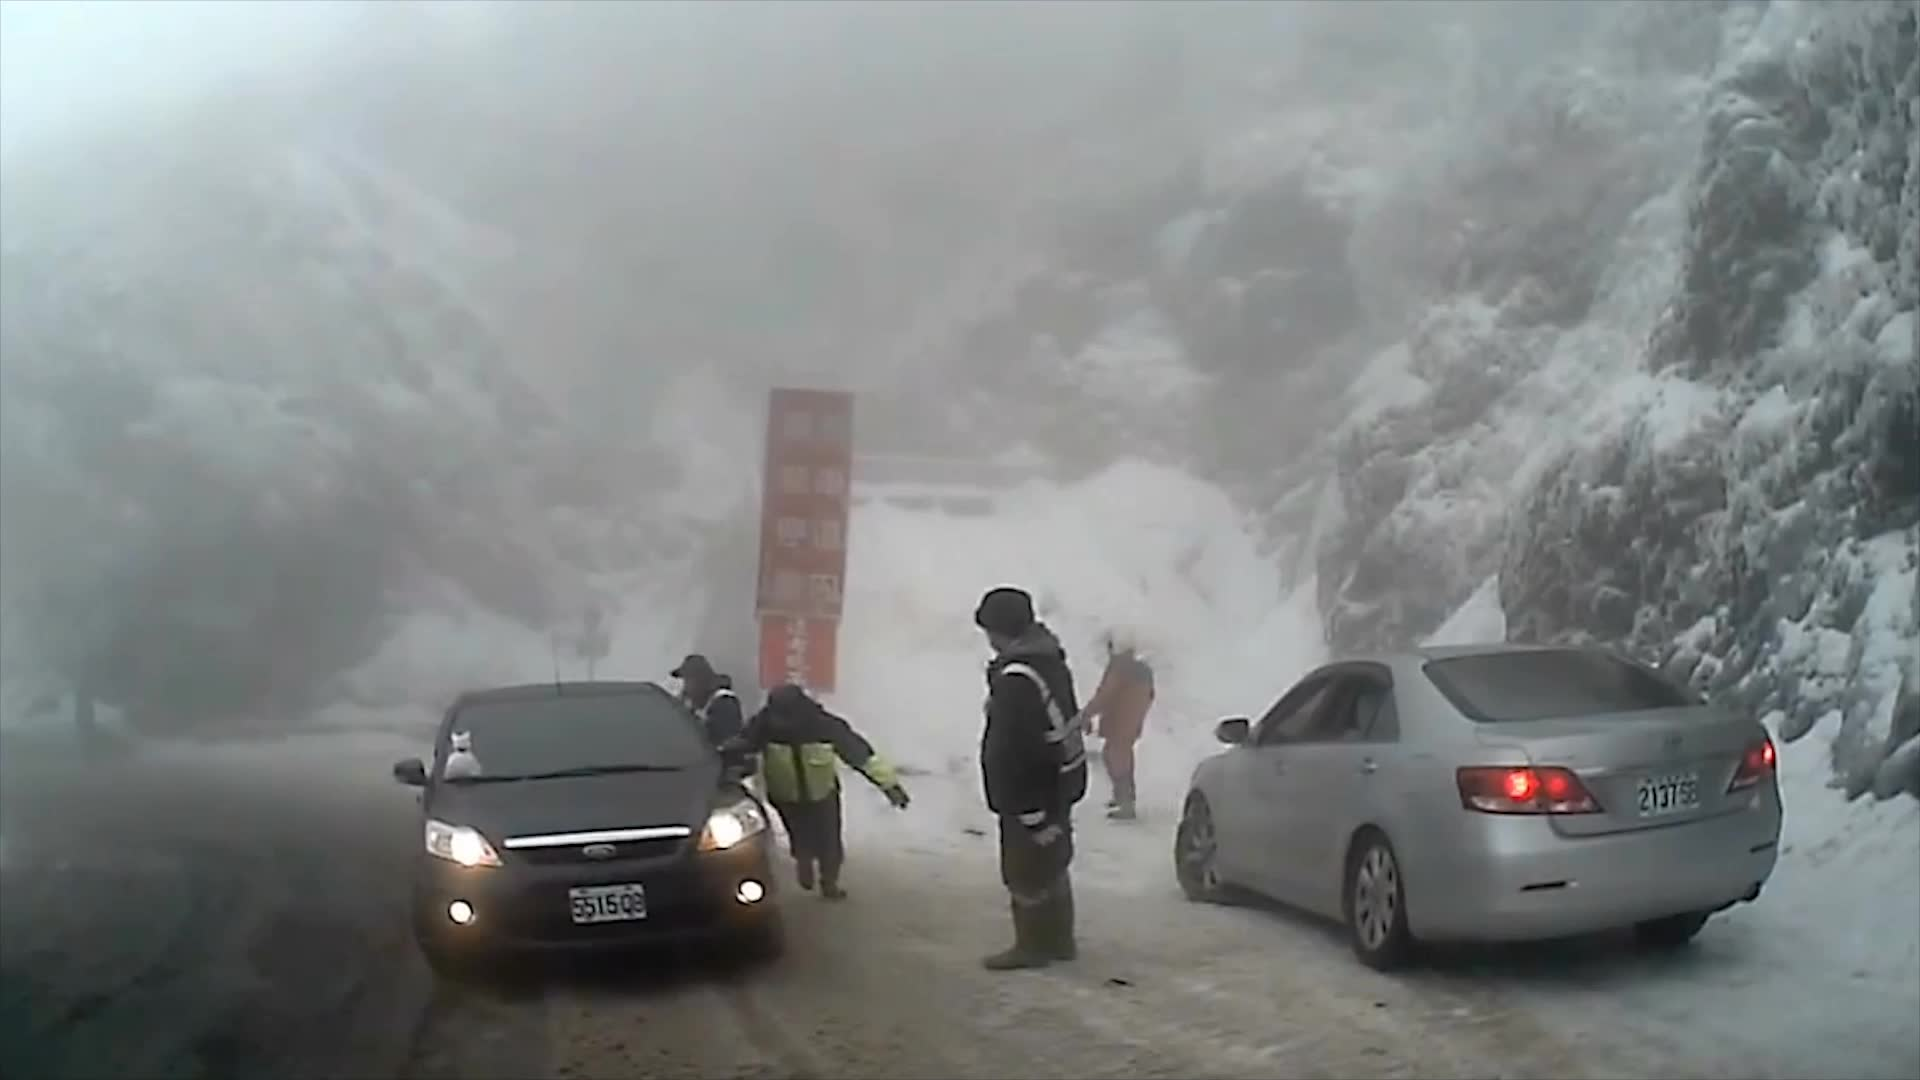pedestrian: (964, 589, 1094, 975), (718, 681, 888, 903), (670, 650, 762, 857), (1085, 628, 1165, 820)
vehicle: (1174, 644, 1784, 970), (388, 678, 784, 982)
